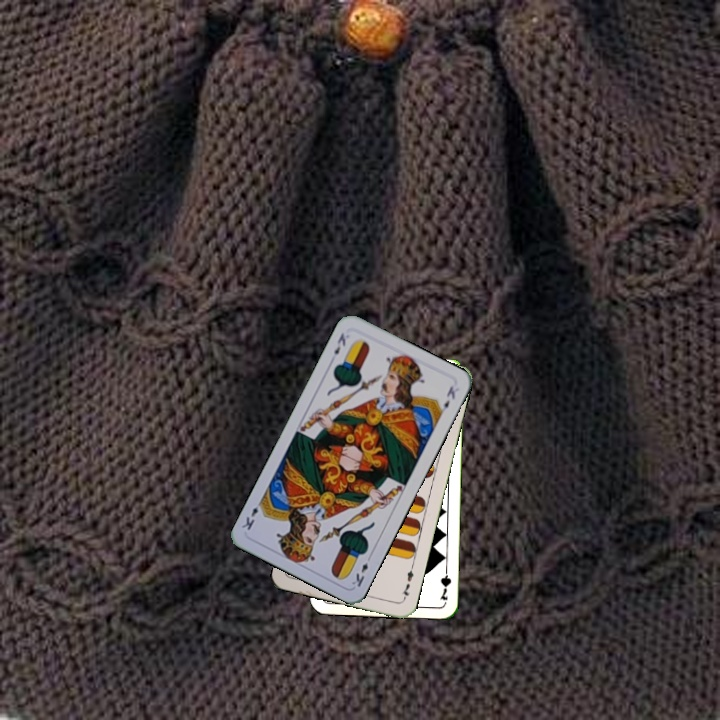E7: (398, 563, 416, 603)
EK: (348, 551, 374, 590), (330, 329, 348, 357)
G7: (436, 562, 453, 603)
